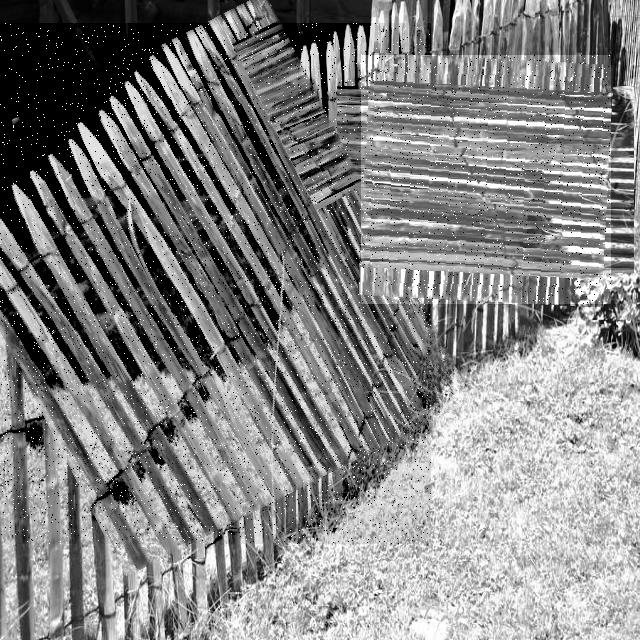fences: (0, 23, 431, 544), (361, 55, 611, 304)
